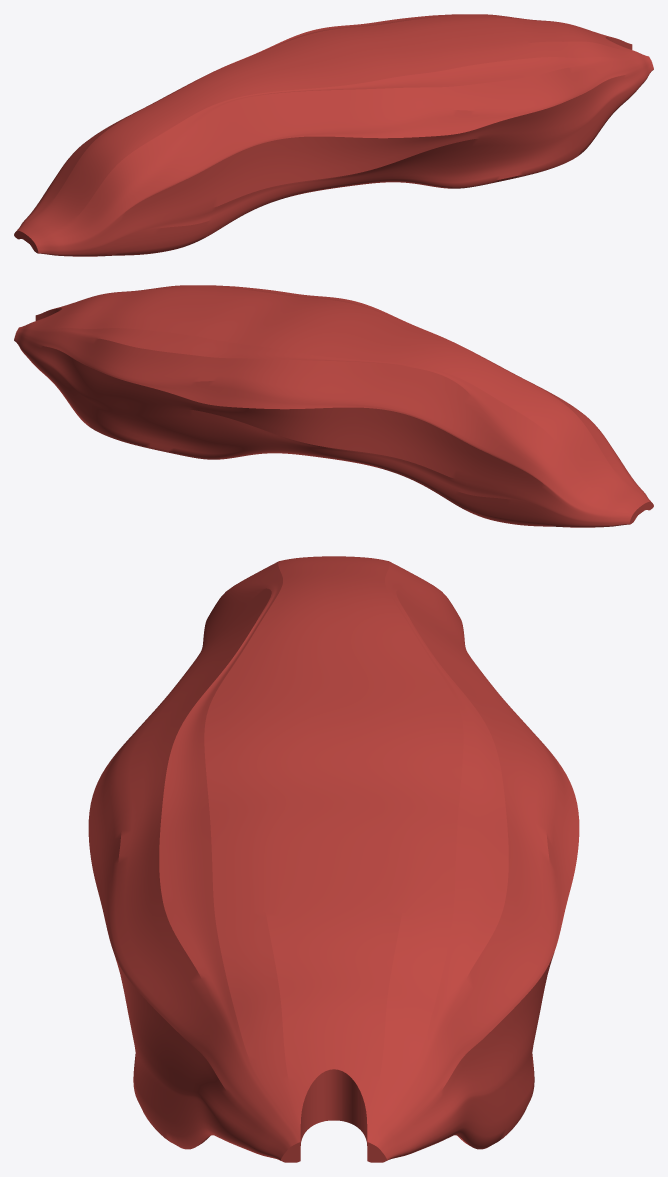
File: race.glb
The picture shows the model from 3 angles, top to bottom: view 1: azimuth 30°, elevation 25°; view 2: azimuth 150°, elevation 25°; view 3: azimuth 270°, elevation 25°; orthographic projection. The views are drawn at different scales.
Visible parts, largest first — view 1: race; view 2: race; view 3: race.
Part boxes in pixels (<box>): race: <box>14,14,653,256</box>; race: <box>14,285,653,527</box>; race: <box>88,556,579,1162</box>.
Bounding box in the file's own units: 1.07 × 0.2096 × 0.3685.
